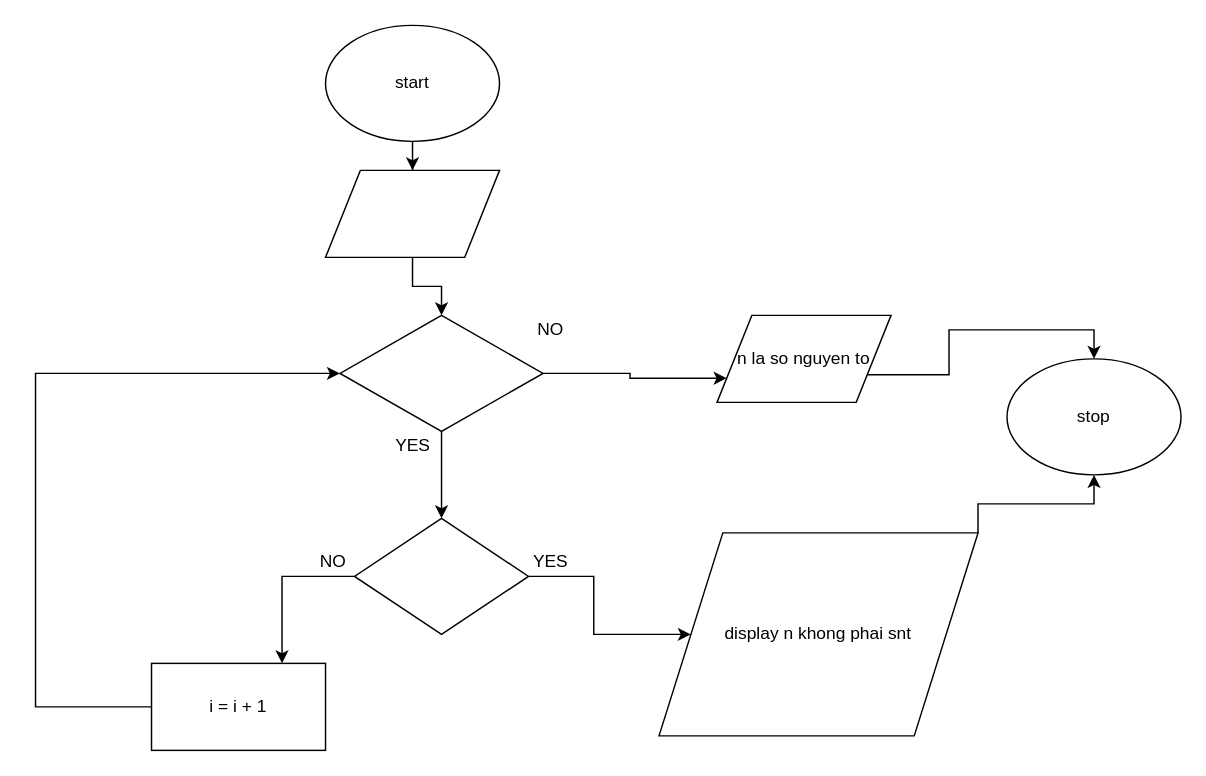
Image size: 1206x776. Some labels were removed from this diagram. Here are the shapes that lost their labels. From the top down, the centre of each, then its label:
At point 412,213: "input n i = 2".
At point 441,372: "i < n".
At point 441,575: "n % i == 0".
